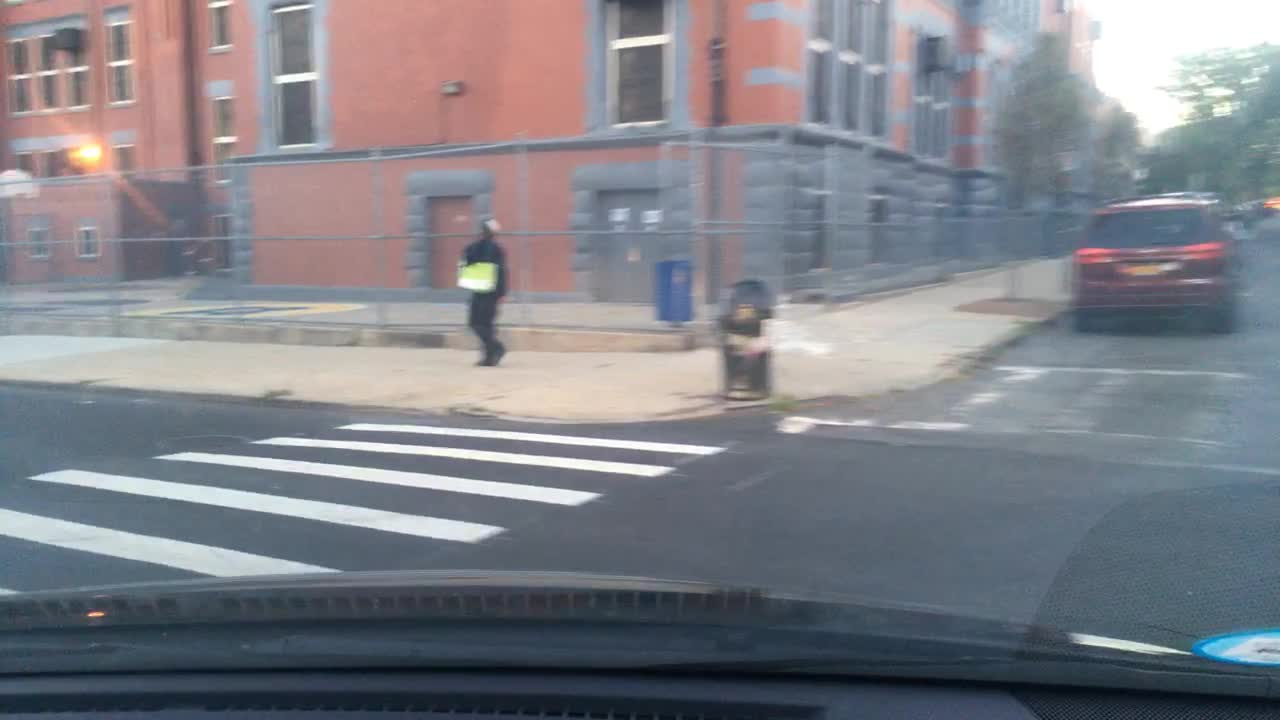car: (1069, 193, 1238, 333), (1245, 200, 1269, 223), (1231, 204, 1256, 226)
person: (454, 216, 511, 367)
